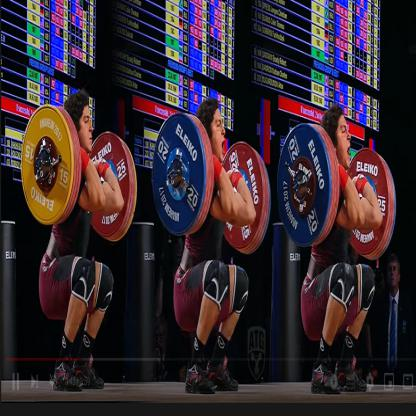Barbell: (147, 105, 209, 242), (18, 93, 76, 234), (276, 117, 336, 252)
